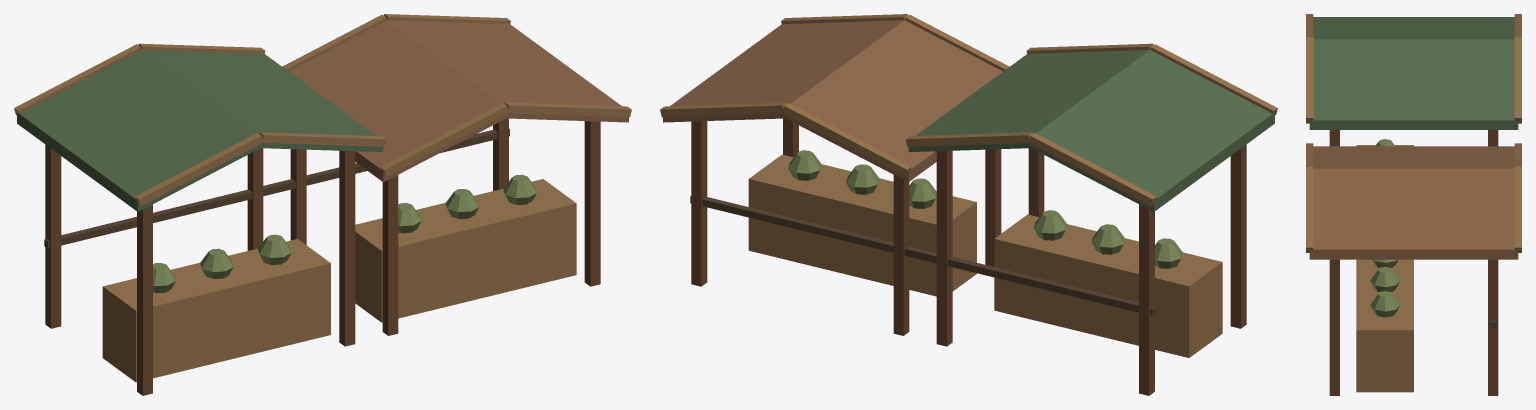
File: Building_Settlement_MarketStallPair_001.glb
3 views of the same model, side by side, from view 1: azimuth 30°, elevation 25°; view 2: azimuth 150°, elevation 25°; view 3: azimuth 270°, elevation 25° (orthographic). The views are drawn at different scales.
Visible parts, largest first — view 1: Building_Settlement_MarketStallPair_001; view 2: Building_Settlement_MarketStallPair_001; view 3: Building_Settlement_MarketStallPair_001.
Boxes of the visible parts, box(x1,y1,x2,y2) form: Building_Settlement_MarketStallPair_001: box(14, 14, 631, 395); Building_Settlement_MarketStallPair_001: box(660, 14, 1277, 395); Building_Settlement_MarketStallPair_001: box(1306, 14, 1521, 395).
Bounding box in the file's own units: 6.83 × 3.24 × 3.
